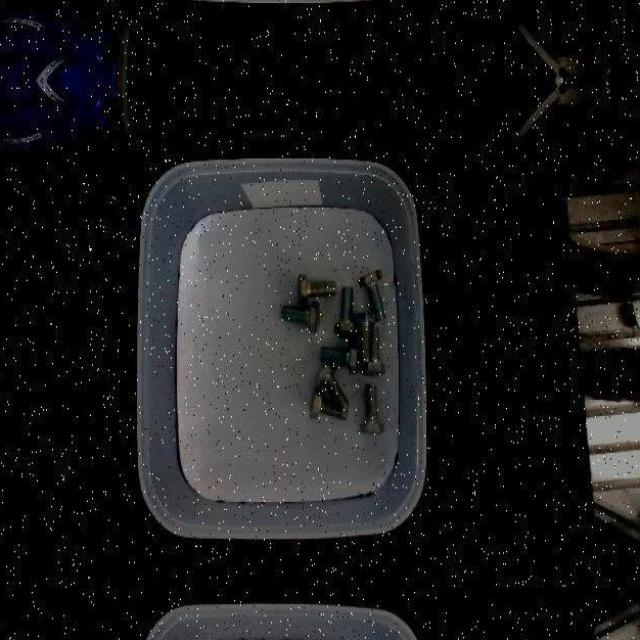screw: (314, 362, 350, 412), (359, 269, 385, 320), (298, 272, 336, 305), (334, 284, 358, 336), (361, 384, 385, 435), (281, 300, 319, 332), (320, 342, 359, 372), (354, 312, 376, 362)
